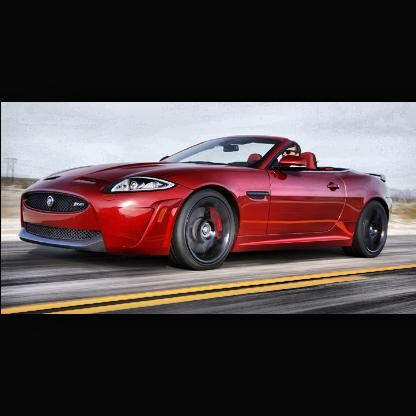Jaguar XK XKR 2012: (18, 134, 394, 270)
